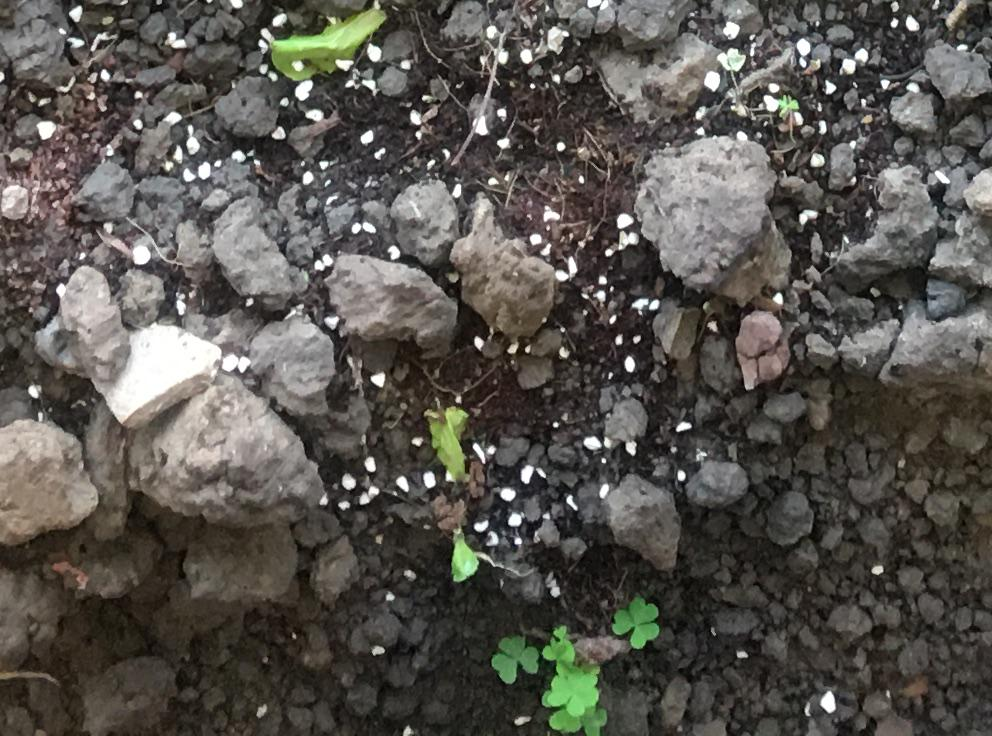block: (638, 136, 793, 309), (143, 383, 323, 530), (1, 422, 100, 549), (325, 256, 450, 356), (874, 298, 992, 403), (454, 215, 545, 343), (51, 266, 135, 383), (602, 473, 683, 575)
